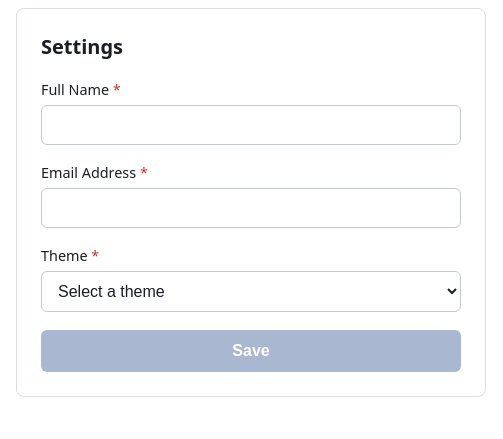
it: SettingsForm › rejects an invalid email format with the correct message and aria attributes
Type "notanemail" into the field labelled "Email Address *".
click(251, 208); type("notanemail")  # box [41, 188, 461, 228]
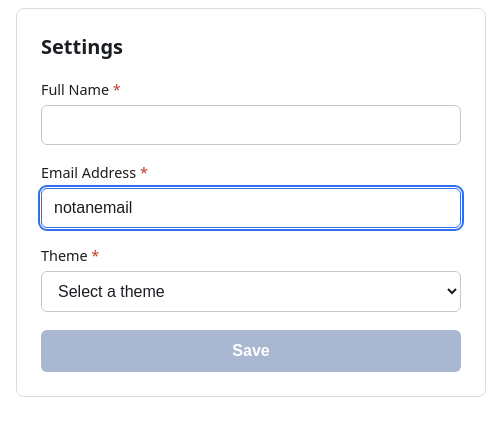
Press Tab
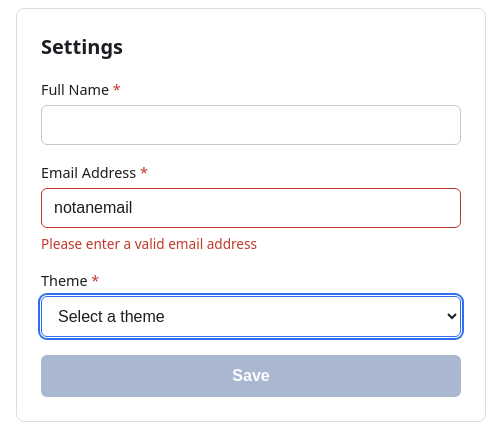
Now the text "Please enter a valid email address" is shown, box [41, 234, 257, 253]
